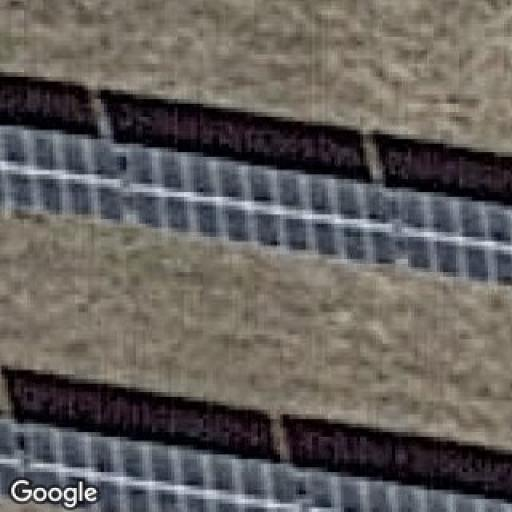solar-panel: (0, 125, 512, 285), (0, 422, 512, 512)
